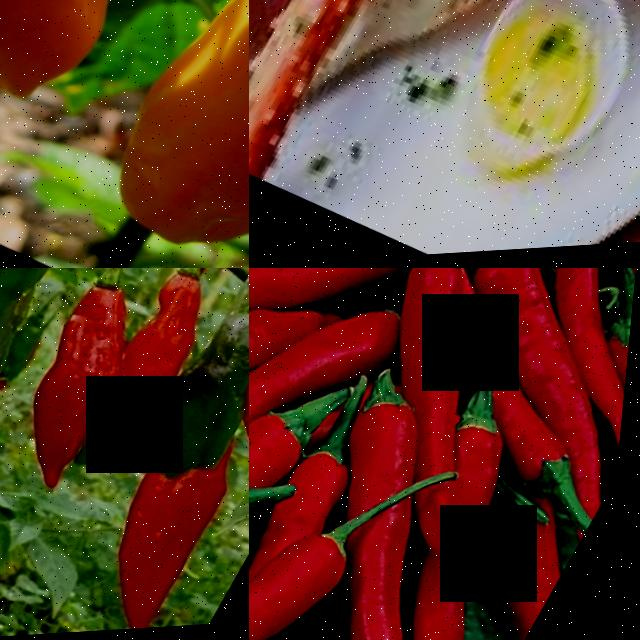chilli: (0, 268, 174, 499), (78, 268, 240, 477), (73, 460, 248, 638), (262, 520, 505, 640), (249, 458, 370, 640), (359, 268, 509, 411), (0, 268, 97, 401), (217, 293, 249, 482)
crab: (249, 0, 458, 180)
